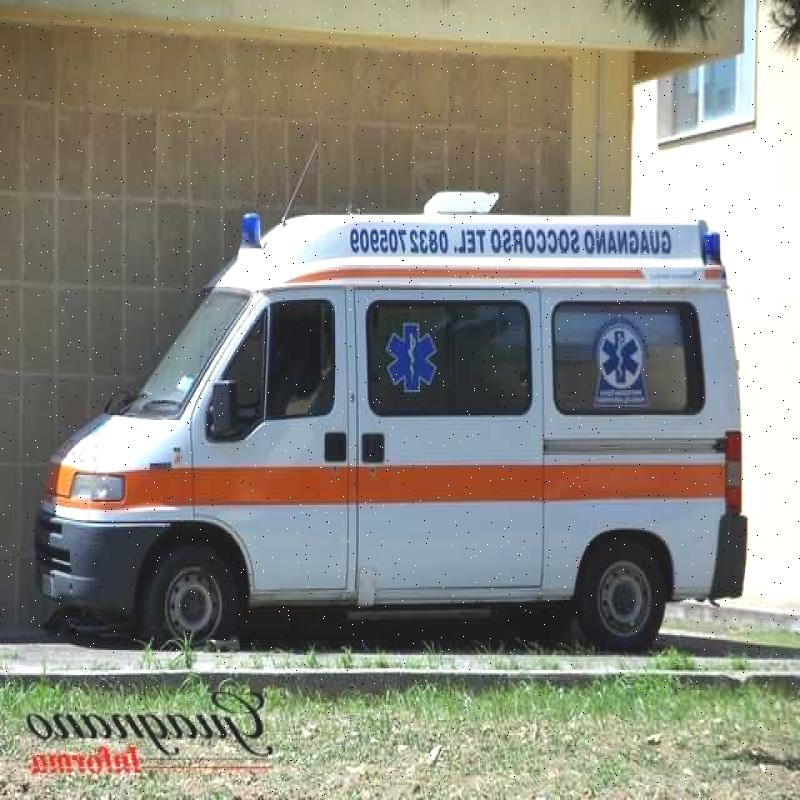ambulance: (32, 138, 762, 668)
